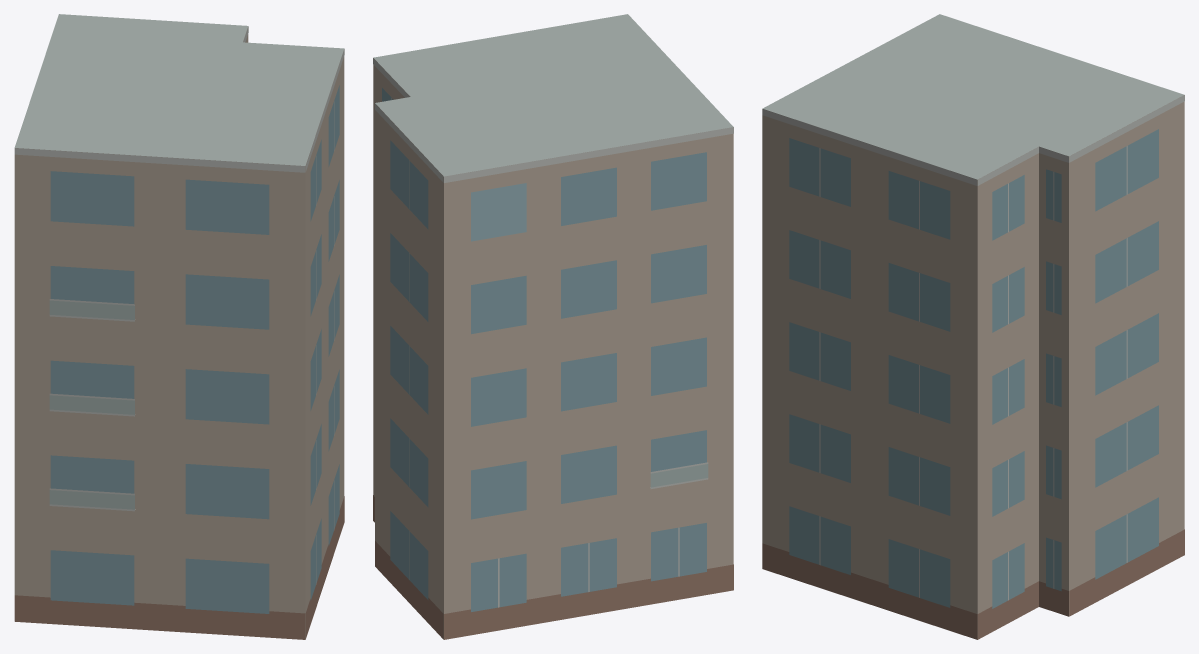
Rendered from survey-upis-33041965.glb.
3 views of the same model, side by side, from view 1: azimuth 30°, elevation 25°; view 2: azimuth 150°, elevation 25°; view 3: azimuth 270°, elevation 25° (orthographic). The views are drawn at different scales.
Visible parts, largest first — view 1: survey-upis-33041965.tmp; view 2: survey-upis-33041965.tmp; view 3: survey-upis-33041965.tmp.
Boxes of the visible parts, bbox=[...] form: survey-upis-33041965.tmp: bbox=[14, 14, 344, 639]; survey-upis-33041965.tmp: bbox=[373, 14, 733, 639]; survey-upis-33041965.tmp: bbox=[762, 14, 1184, 639].
Size of the model in its own units: 13.2 by 17.1 by 14.23.
